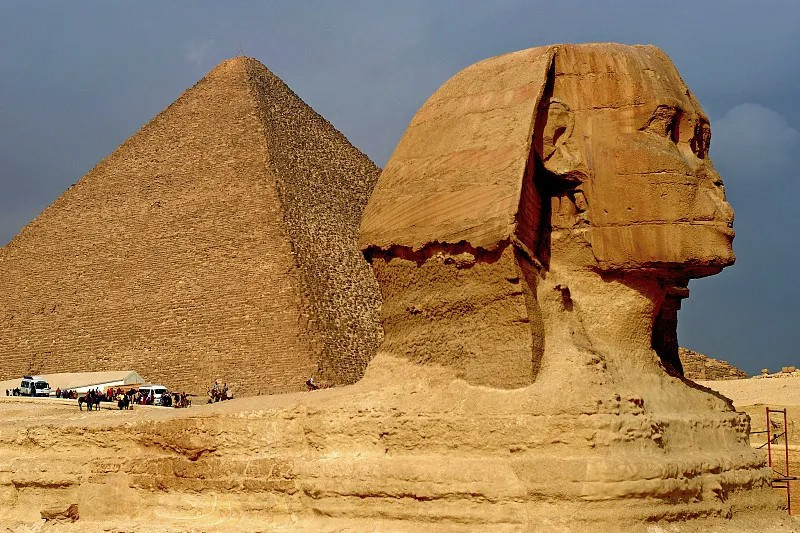Pyramid: (1, 56, 383, 395)
